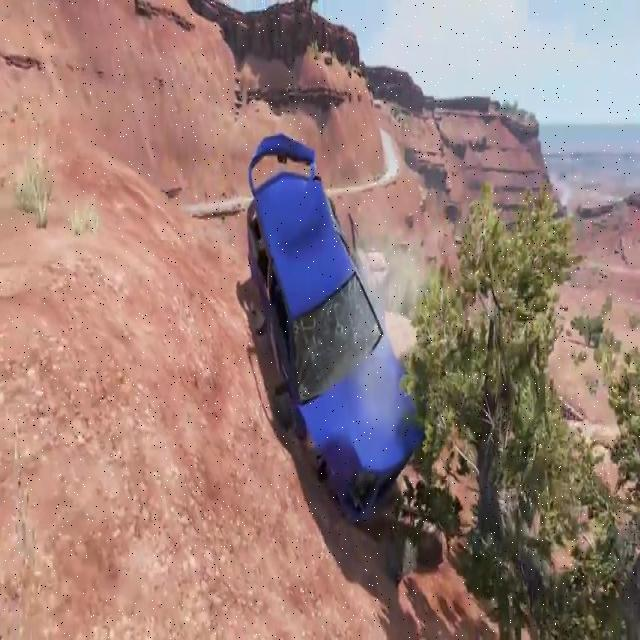severe: (241, 125, 432, 527)
